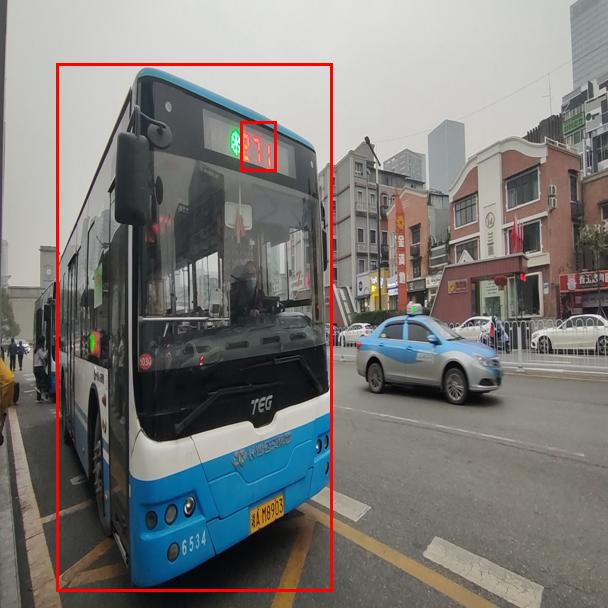bus: (56, 63, 332, 591)
screen: (240, 121, 276, 171)
